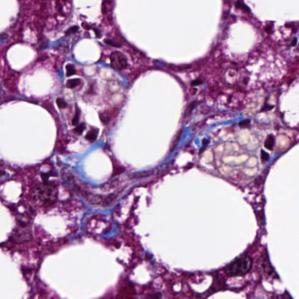inflammation: (52, 94, 105, 142), (57, 57, 90, 90), (257, 131, 280, 164)
